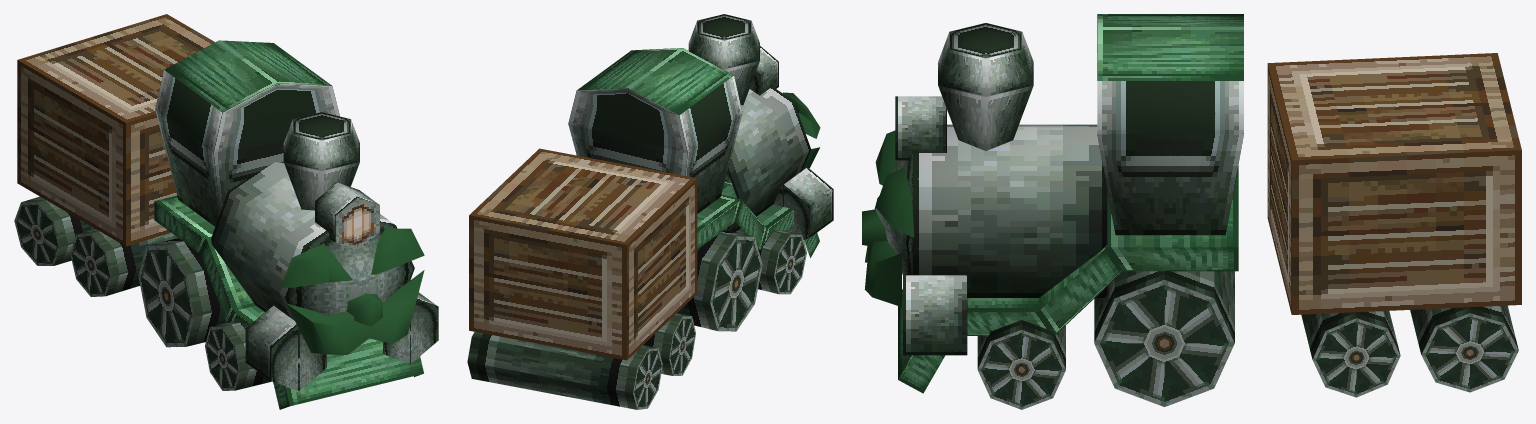
3 views of the same model, side by side, from view 1: azimuth 30°, elevation 25°; view 2: azimuth 150°, elevation 25°; view 3: azimuth 270°, elevation 25° (orthographic). The views are drawn at different scales.
Visible parts, largest first — view 1: s3_syuppou01.png; view 2: s3_syuppou01.png; view 3: s3_syuppou01.png.
Boxes of the visible parts, bbox=[...] form: s3_syuppou01.png: bbox=[14, 14, 438, 409]; s3_syuppou01.png: bbox=[467, 14, 833, 409]; s3_syuppou01.png: bbox=[862, 14, 1521, 409].
Bounding box in the file's own units: 25.58 × 34.31 × 61.83.
1 material, 1 textured.
